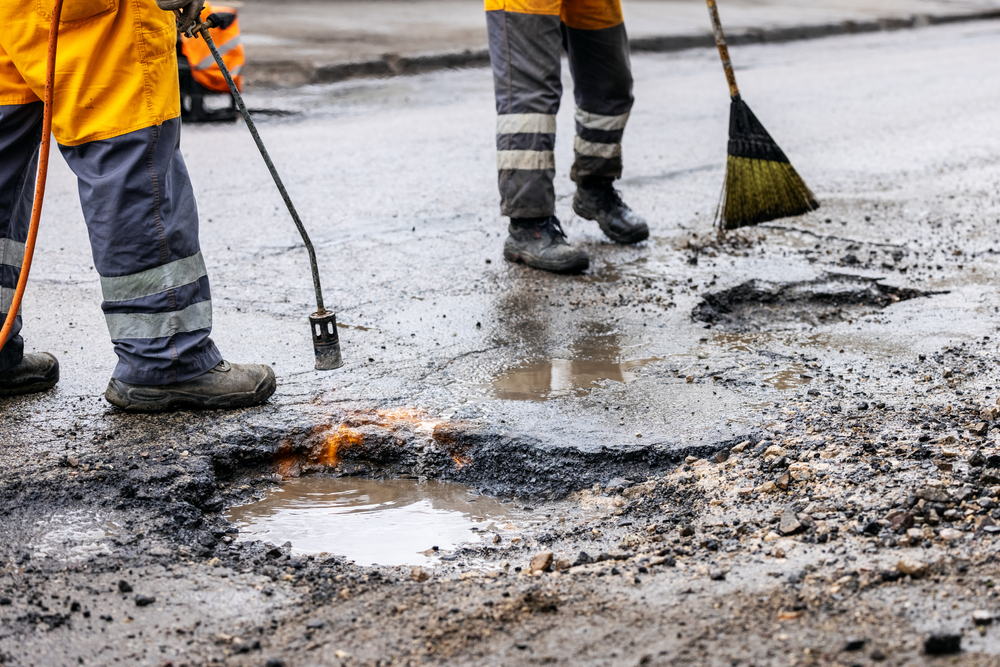Hole_in_the_road: (109, 415, 651, 587)
